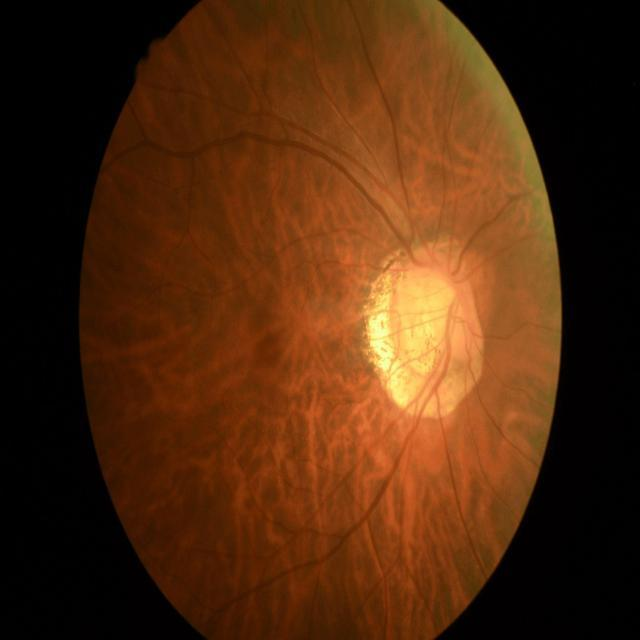cup: (435, 270, 468, 352)
disk: (429, 252, 487, 366)
